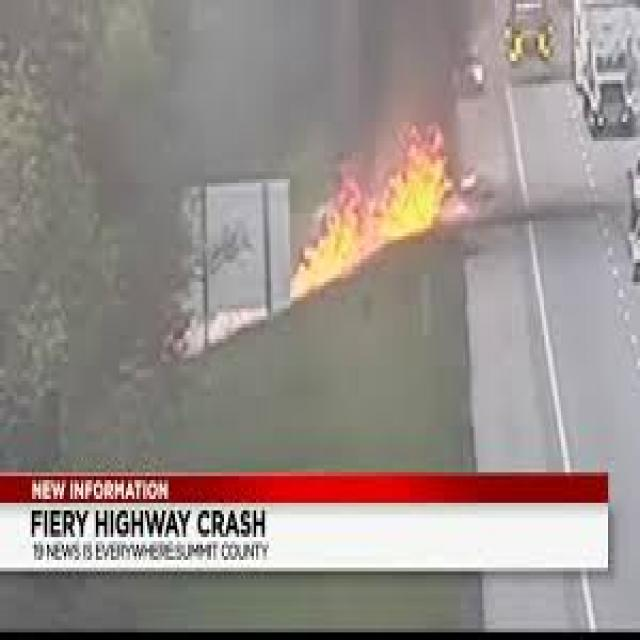fire: (290, 122, 467, 301)
